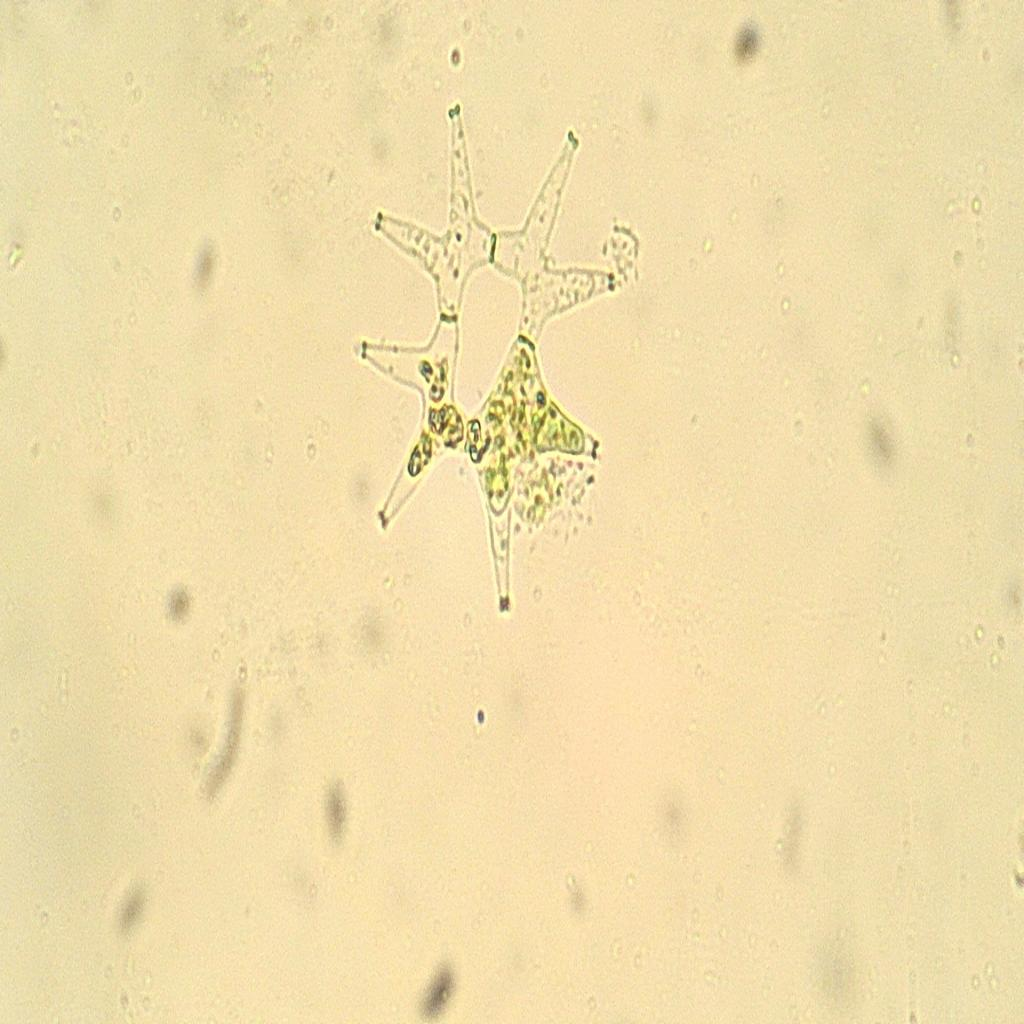Pediastrum_75TH: (331, 83, 638, 651)
